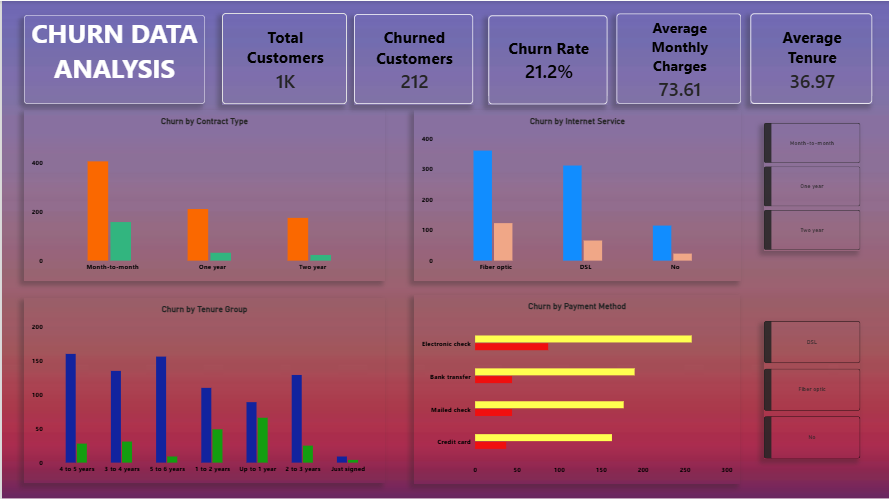

The dashboard page shown, as its layout file describes it:
{"tool":"powerbi","page":{"name":"Page 1","canvas":[1920,1080],"ordinal":0},"visuals":[{"type":"cardVisual","fields":{"Data":["CountNonNull(Customer_Data.Customer_ID)"]},"box":[760.3,28.1,259.2,196.6],"z":0},{"type":"cardVisual","fields":{"Data":["Customer_Data.Churn Rate"]},"box":[1049.8,30.2,259.2,194.4],"z":1000},{"type":"cardVisual","fields":{"Data":["Avg(Customer_Data.Monthly_Charges)"]},"box":[1326.2,25.9,270,196.6],"z":2000},{"type":"cardVisual","fields":{"Data":["Avg(Customer_Data.Tenure_Months)"]},"box":[1615.7,25.9,265.4,197.4],"z":3000},{"type":"clusteredColumnChart","title":"Churn by Contract Type","fields":{"Category":["Customer_Data.Contract"],"Y":["CountNonNull(Customer_Data.Customer_ID)"],"Series":["Customer_Data.Churn"]},"box":[47.5,235.4,779.8,369.4],"z":4000},{"type":"clusteredColumnChart","title":"Churn by Tenure Group","fields":{"Category":["Customer_Data.Tenure Group"],"Y":["CountNonNull(Customer_Data.Customer_ID)"],"Series":["Customer_Data.Churn"]},"box":[47.5,641.5,779.8,399.6],"z":5000},{"type":"clusteredColumnChart","title":"Churn by Internet Service","fields":{"Category":["Customer_Data.Internet_Service"],"Y":["CountNonNull(Customer_Data.Customer_ID)"],"Series":["Customer_Data.Churn"]},"box":[890,235,706.3,369.4],"z":6000},{"type":"clusteredBarChart","title":"Churn by Payment Method","fields":{"Category":["Customer_Data.Payment_Method"],"Y":["CountNonNull(Customer_Data.Customer_ID)"],"Series":["Customer_Data.Churn"]},"box":[890,635,705,407.5],"z":7000},{"type":"advancedSlicerVisual","fields":{"Values":["Customer_Data.Contract"]},"box":[1646,264,208,276],"z":8000},{"type":"advancedSlicerVisual","fields":{"Values":["Customer_Data.Internet_Service"]},"box":[1646,692,208,298],"z":9000},{"type":"cardVisual","fields":{"Data":["CountNonNull(Customer_Data.Customer_ID)"]},"box":[475.2,25.9,270,197.5],"z":10000},{"type":"textbox","box":[47.5,30.2,391,192.2],"z":10001}]}

Visuals, with their boxes in screenshot pixels (x1, y1, x2, y2), scaled from the page's 1920x1080 canvas onto the 889x499 screenshot:
cardVisual - CountNonNull(Customer_Data.Customer_ID): bbox(352, 13, 472, 104)
cardVisual - Customer_Data.Churn Rate: bbox(486, 14, 606, 104)
cardVisual - Avg(Customer_Data.Monthly_Charges): bbox(614, 12, 739, 103)
cardVisual - Avg(Customer_Data.Tenure_Months): bbox(748, 12, 871, 103)
"Churn by Contract Type" clusteredColumnChart: bbox(22, 109, 383, 279)
"Churn by Tenure Group" clusteredColumnChart: bbox(22, 296, 383, 481)
"Churn by Internet Service" clusteredColumnChart: bbox(412, 109, 739, 279)
"Churn by Payment Method" clusteredBarChart: bbox(412, 293, 739, 482)
advancedSlicerVisual - Customer_Data.Contract: bbox(762, 122, 858, 250)
advancedSlicerVisual - Customer_Data.Internet_Service: bbox(762, 320, 858, 457)
cardVisual - CountNonNull(Customer_Data.Customer_ID): bbox(220, 12, 345, 103)
textbox: bbox(22, 14, 203, 103)
